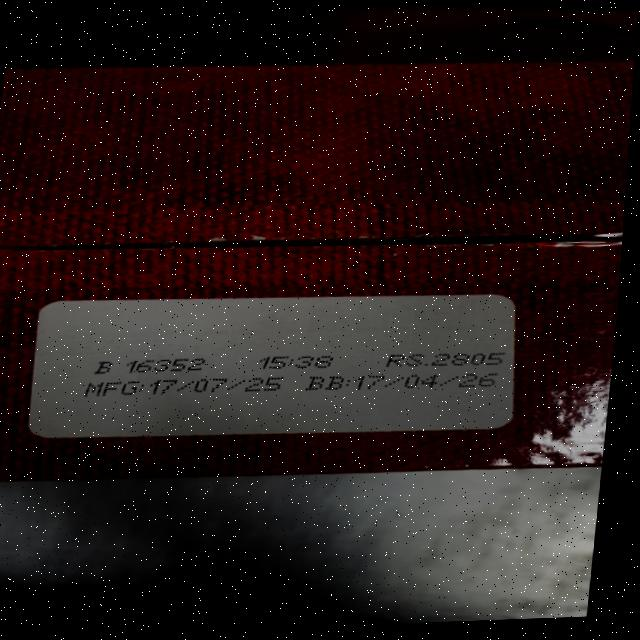BB: (307, 366, 504, 397)
Batch: (92, 354, 213, 377)
MFG: (86, 370, 289, 403)
RS: (384, 348, 509, 371)
TimeStamp: (256, 352, 337, 371)
